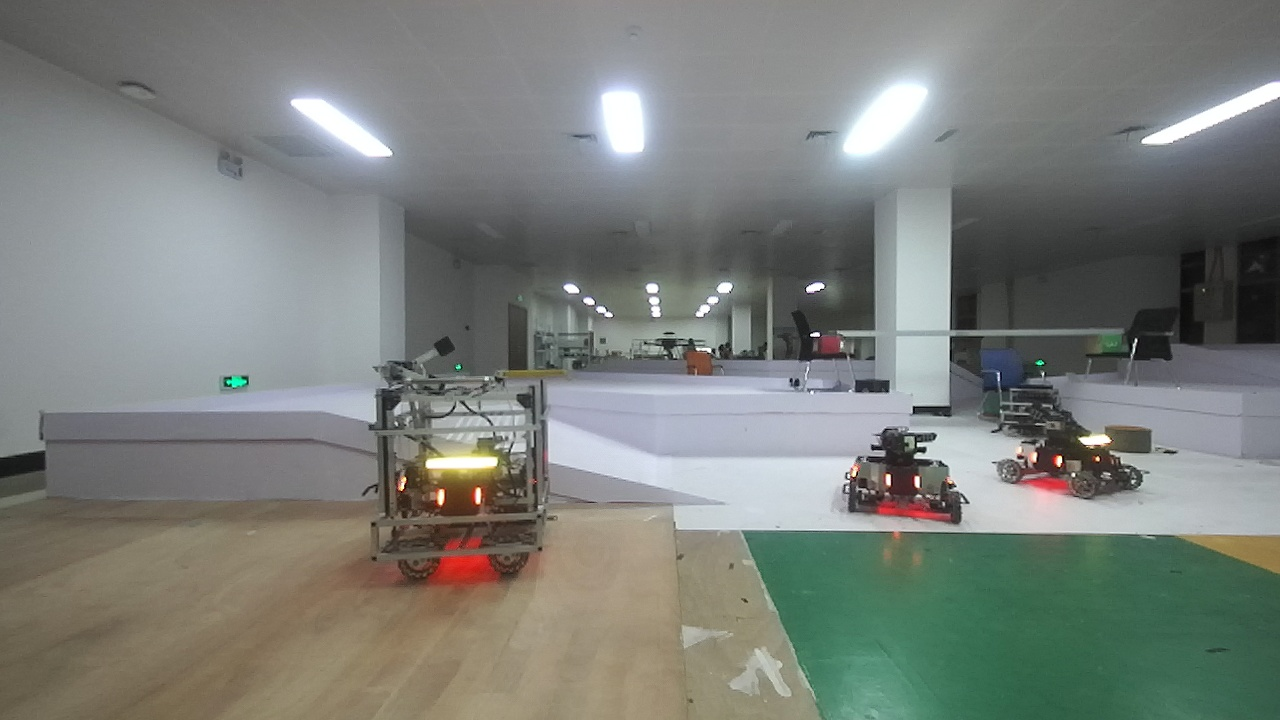car: (360, 370, 567, 601), (1002, 412, 1167, 507), (836, 424, 973, 536)
